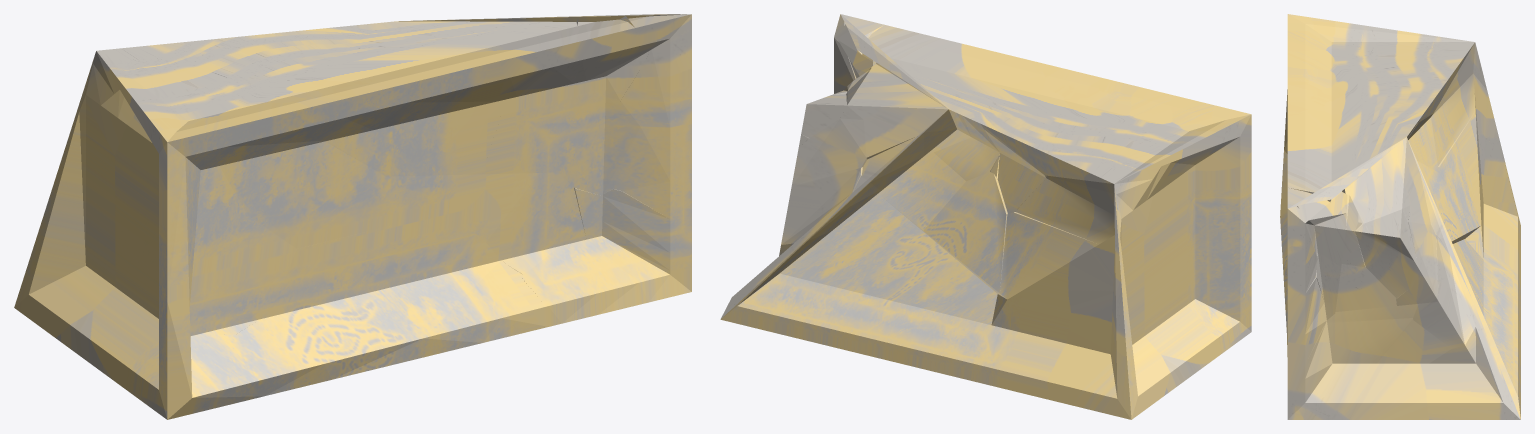
The model's file is GoldBrickShatter.fbx.
3 views of the same model, side by side, from view 1: azimuth 30°, elevation 25°; view 2: azimuth 150°, elevation 25°; view 3: azimuth 270°, elevation 25° (orthographic). The views are drawn at different scales.
Parts seen in each view (by area): view 1: Box001_Part_47, Box001_Part_48, Box001_Part_46, Box001_Part_44, Box001_Part_21, Box001_Part_3, Box001_Part_27, Box001_Part_30, Box001_Part_6, Box001_Part_43, Box001_Part_7, Box001_Part_45 (+22 smaller); view 2: Box001_Part_47, Box001_Part_48, Box001_Part_21, Box001_Part_6, Box001_Part_61, Box001_Part_9, Box001_Part_57, Box001_Part_18, Box001_Part_43, Box001_Part_17, Box001_Part_64, Box001_Part_24 (+20 smaller); view 3: Box001_Part_21, Box001_Part_9, Box001_Part_11, Box001_Part_6, Box001_Part_47, Box001_Part_14, Box001_Part_10, Box001_Part_24, Box001_Part_20, Box001_Part_50, Box001_Part_34, Box001_Part_46 (+29 smaller).
Part boxes in pixels (bbox=[...]): Box001_Part_47: bbox=[14, 107, 158, 377]; Box001_Part_48: bbox=[105, 93, 247, 312]; Box001_Part_46: bbox=[98, 86, 395, 248]; Box001_Part_44: bbox=[271, 224, 426, 379]; Box001_Part_21: bbox=[92, 27, 343, 108]; Box001_Part_3: bbox=[356, 58, 510, 176]; Box001_Part_27: bbox=[402, 242, 521, 356]; Box001_Part_30: bbox=[386, 173, 539, 255]; Box001_Part_6: bbox=[384, 16, 583, 110]; Box001_Part_43: bbox=[110, 299, 219, 419]; Box001_Part_7: bbox=[482, 34, 585, 174]; Box001_Part_45: bbox=[210, 215, 296, 334]; Box001_Part_47: bbox=[982, 214, 1206, 419]; Box001_Part_48: bbox=[1136, 105, 1251, 293]; Box001_Part_21: bbox=[981, 103, 1167, 194]; Box001_Part_6: bbox=[866, 35, 991, 155]; Box001_Part_61: bbox=[863, 257, 952, 373]; Box001_Part_9: bbox=[720, 238, 841, 336]; Box001_Part_57: bbox=[789, 261, 896, 354]; Box001_Part_18: bbox=[923, 172, 1007, 296]; Box001_Part_43: bbox=[1179, 240, 1251, 364]; Box001_Part_17: bbox=[861, 132, 965, 232]; Box001_Part_64: bbox=[941, 255, 997, 383]; Box001_Part_24: bbox=[1015, 176, 1152, 244]; Box001_Part_21: bbox=[1309, 31, 1477, 122]; Box001_Part_9: bbox=[1392, 312, 1520, 419]; Box001_Part_11: bbox=[1287, 318, 1413, 419]; Box001_Part_6: bbox=[1287, 133, 1422, 196]; Box001_Part_47: bbox=[1465, 90, 1520, 295]; Box001_Part_14: bbox=[1348, 320, 1451, 419]; Box001_Part_10: bbox=[1413, 234, 1481, 348]; Box001_Part_24: bbox=[1431, 51, 1486, 165]; Box001_Part_20: bbox=[1437, 111, 1481, 230]; Box001_Part_50: bbox=[1287, 188, 1346, 266]; Box001_Part_34: bbox=[1355, 224, 1420, 298]; Box001_Part_46: bbox=[1287, 29, 1401, 61].
Bounding box in the file's own units: 202 × 106 × 102.
